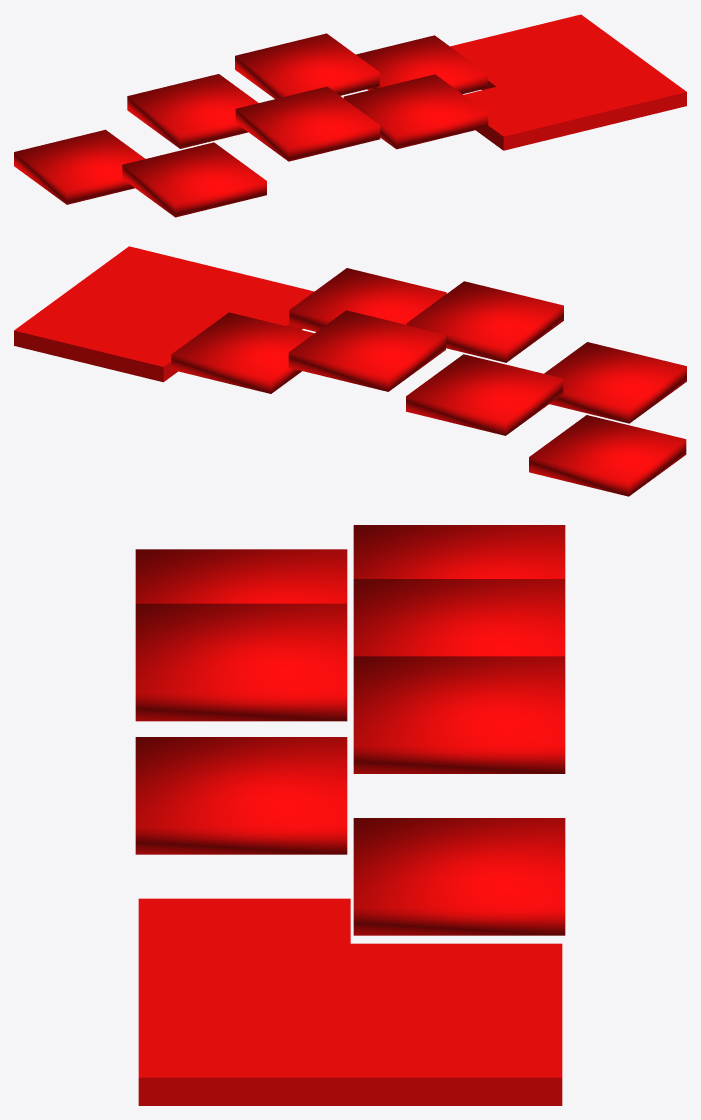
The model's file is steppingstones.dae.
The picture shows the model from 3 angles, top to bottom: view 1: azimuth 30°, elevation 25°; view 2: azimuth 150°, elevation 25°; view 3: azimuth 270°, elevation 25°; orthographic projection. The views are drawn at different scales.
Parts seen in each view (by area): view 1: node (×8); view 2: node (×8); view 3: node (×8).
Boxes of the visible parts, box(x1,y1,x2,y2) form: node (×8): box(14, 14, 686, 217); node (×8): box(14, 246, 686, 496); node (×8): box(135, 525, 565, 1105).
Size of the model in its own units: 2.1 by 0.69 by 0.2.
